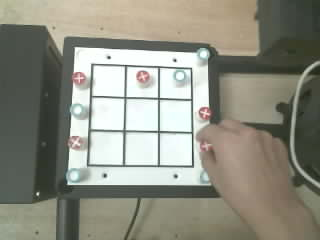blue circle: (70, 103, 84, 117), (66, 168, 80, 182), (197, 48, 210, 60), (174, 70, 186, 81), (200, 170, 209, 183)
board: (67, 47, 211, 185)
cells: (125, 133, 158, 166), (89, 132, 122, 164), (160, 133, 192, 165), (91, 98, 123, 129), (126, 99, 157, 130), (160, 100, 191, 131), (92, 66, 124, 96), (160, 68, 191, 98), (127, 67, 158, 97)
grid: (87, 64, 193, 167)
red cross: (68, 136, 83, 149), (72, 72, 85, 85), (198, 107, 211, 120), (136, 71, 149, 83), (200, 142, 212, 151)
